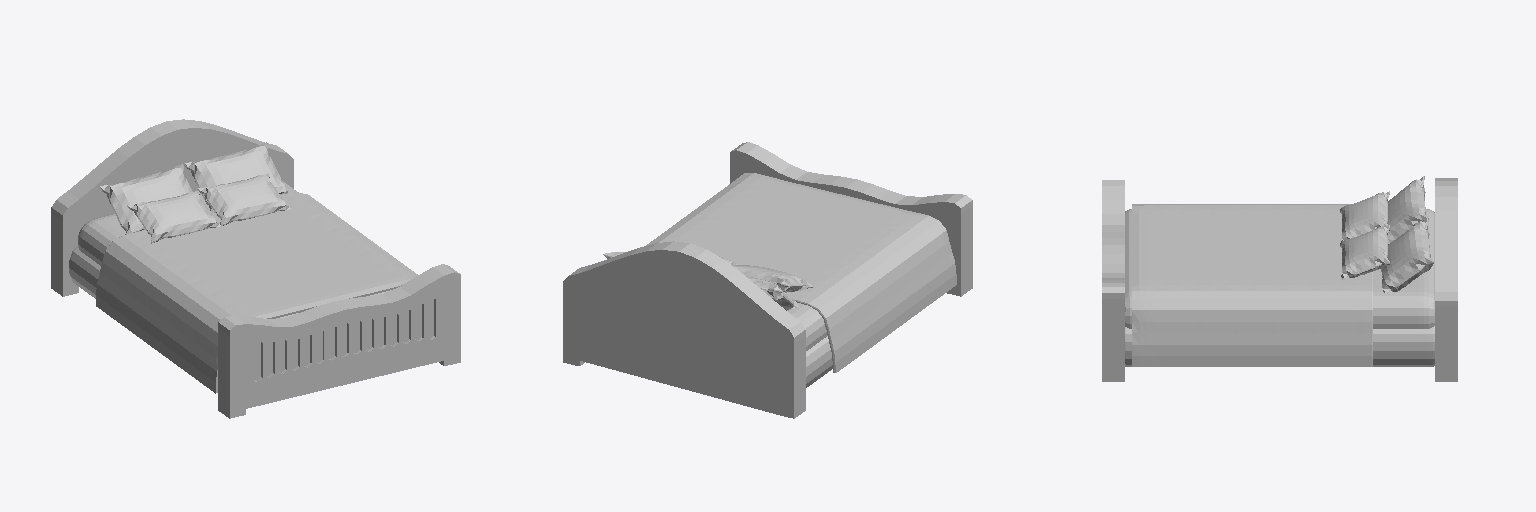
The model's file is Bed.obj.
3 views of the same model, side by side, from view 1: azimuth 30°, elevation 25°; view 2: azimuth 150°, elevation 25°; view 3: azimuth 270°, elevation 25° (orthographic).
Visible parts, largest first — view 1: Cube.001, Plane.001, Pillow.003, Mattress, Frame; view 2: Cube.001, Plane.001, Pillow.003, Frame, Mattress; view 3: Plane.001, Cube.001, Pillow.003, Mattress, Frame.
Part boxes in pixels (left/top/right/bottom): Cube.001: left=51, top=119, right=460, bottom=418; Plane.001: left=96, top=193, right=417, bottom=393; Pillow.003: left=98, top=142, right=290, bottom=243; Mattress: left=78, top=181, right=390, bottom=317; Frame: left=69, top=246, right=100, bottom=298; Cube.001: left=563, top=142, right=972, bottom=418; Plane.001: left=646, top=173, right=956, bottom=372; Pillow.003: left=603, top=252, right=812, bottom=310; Frame: left=806, top=259, right=954, bottom=387; Mattress: left=788, top=303, right=827, bottom=350; Plane.001: left=1132, top=204, right=1372, bottom=366; Cube.001: left=1102, top=178, right=1457, bottom=381; Pillow.003: left=1340, top=176, right=1433, bottom=293; Mattress: left=1125, top=209, right=1434, bottom=328; Frame: left=1125, top=326, right=1434, bottom=366.
Size of the model in its own units: 3.5 by 2.01 by 4.67.